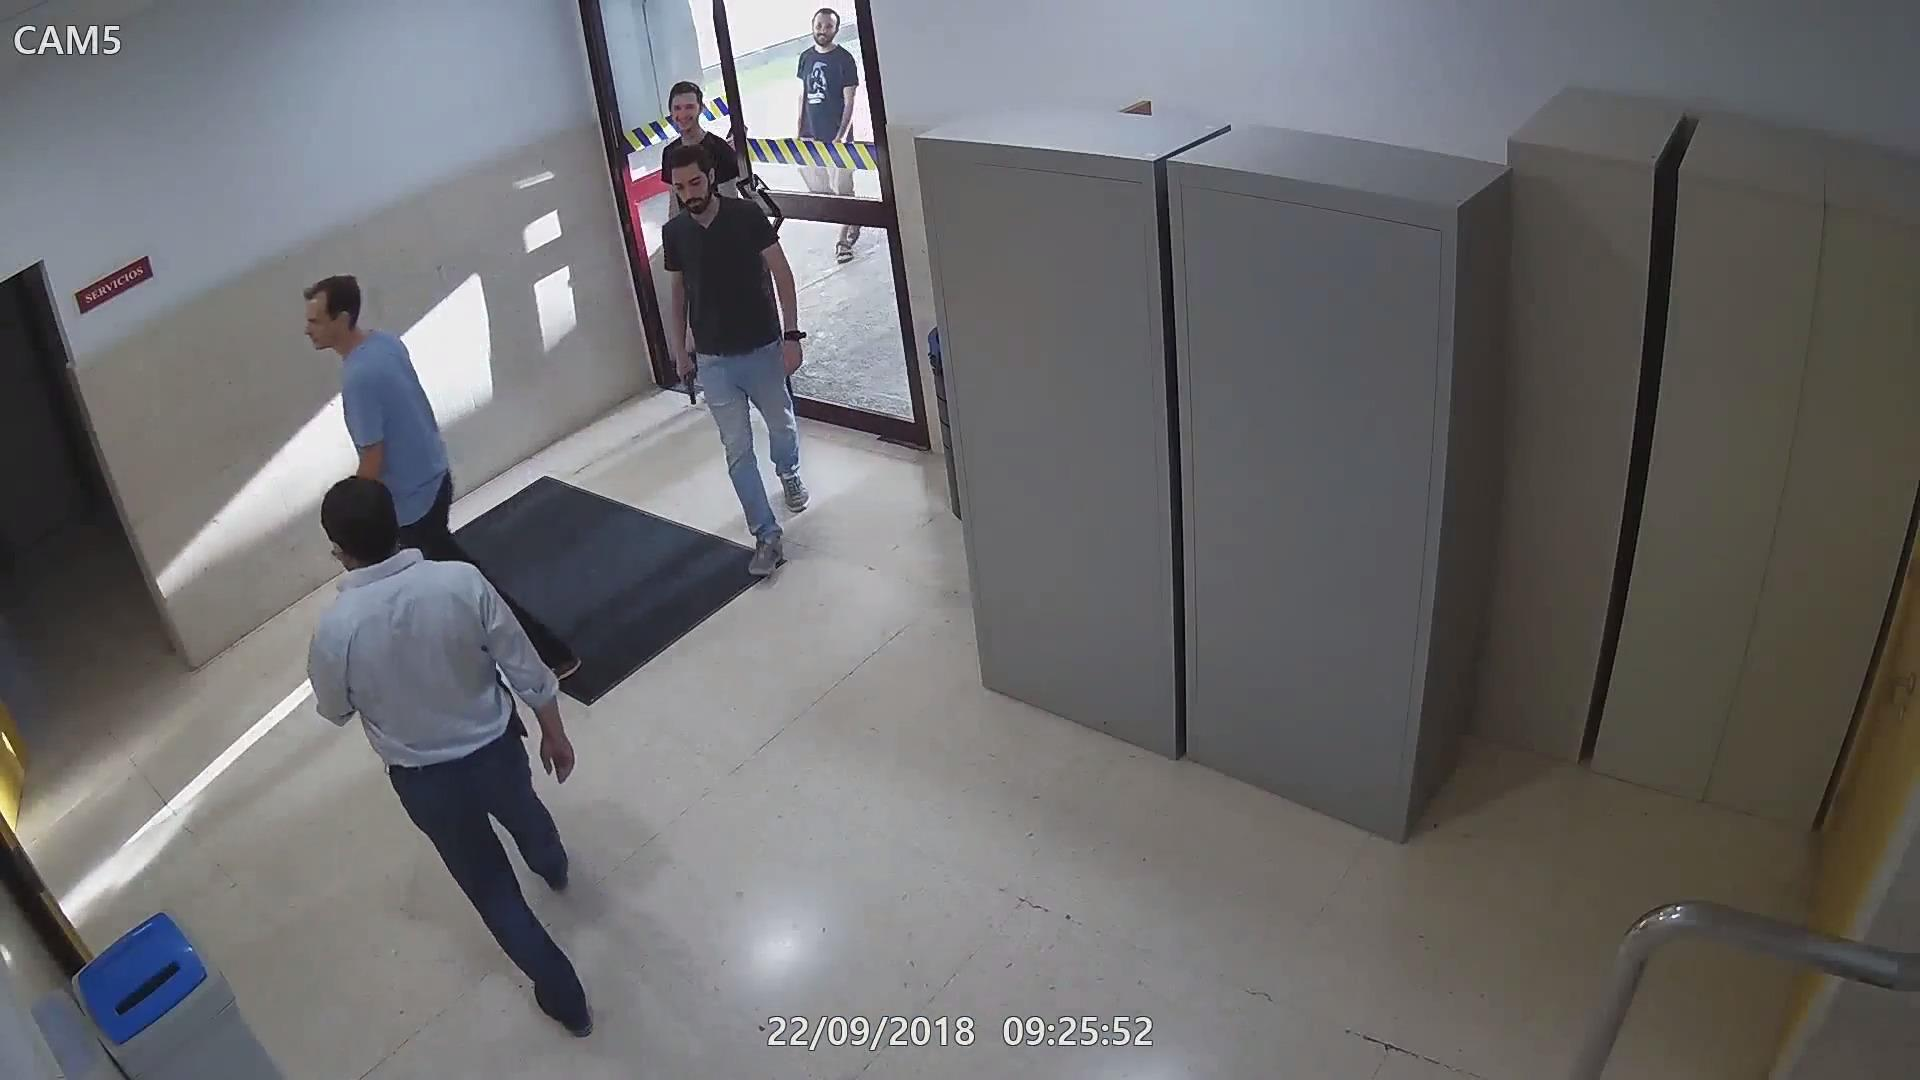Handgun: (489, 657, 522, 731), (671, 352, 702, 414)
